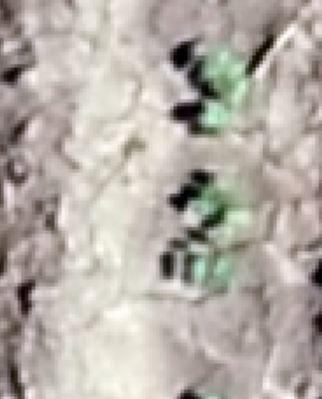cotton: (205, 52, 245, 84), (208, 188, 245, 213), (204, 99, 231, 128), (195, 260, 229, 281), (222, 81, 247, 106), (224, 210, 244, 228)
